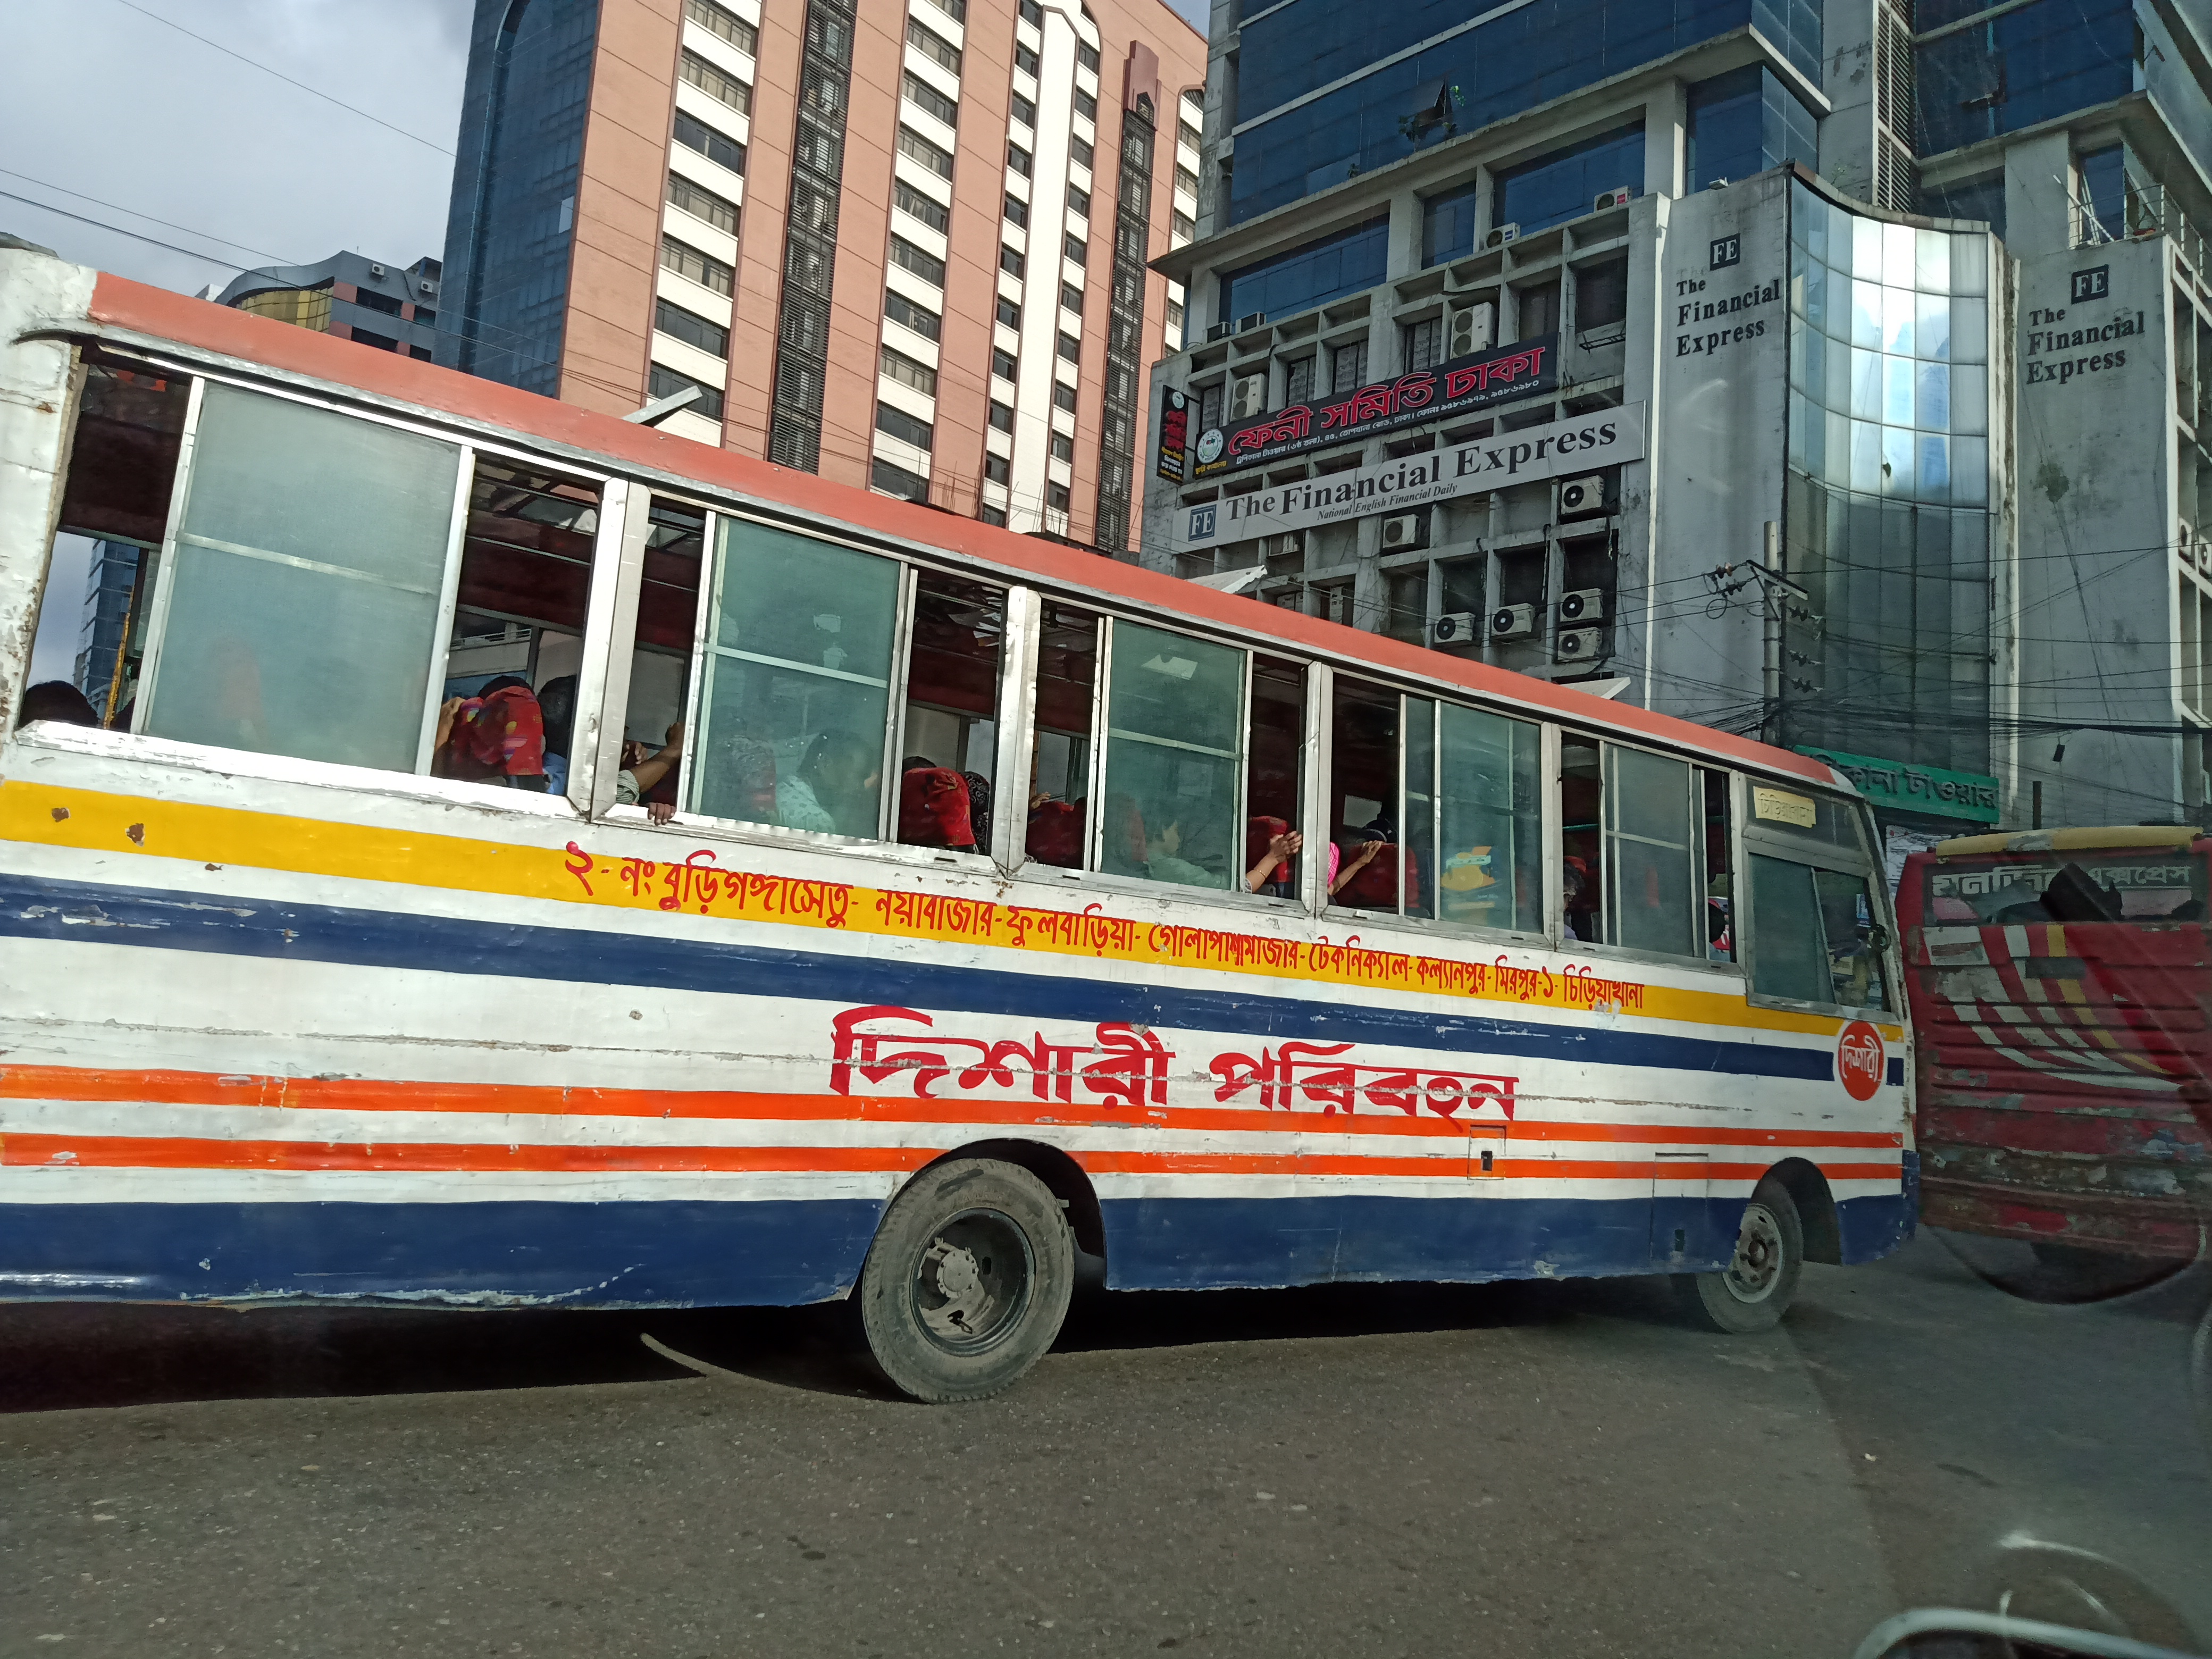bus: (2, 242, 1916, 1441), (1897, 774, 2212, 1290)
